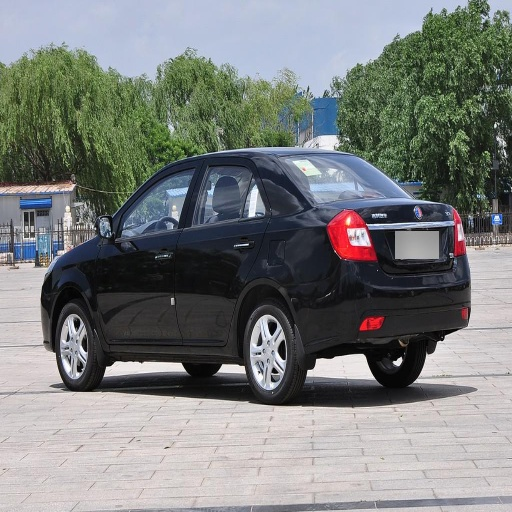back_bumper: (295, 258, 471, 351)
back_glass: (273, 154, 402, 203)
back_left_door: (178, 157, 270, 340)
